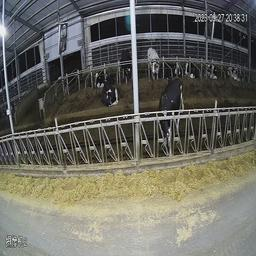cow: (157, 77, 188, 153), (101, 70, 122, 114), (226, 48, 247, 88), (144, 38, 161, 82), (118, 43, 132, 86), (203, 52, 221, 84), (183, 52, 202, 79), (167, 52, 184, 77), (91, 63, 106, 90)
